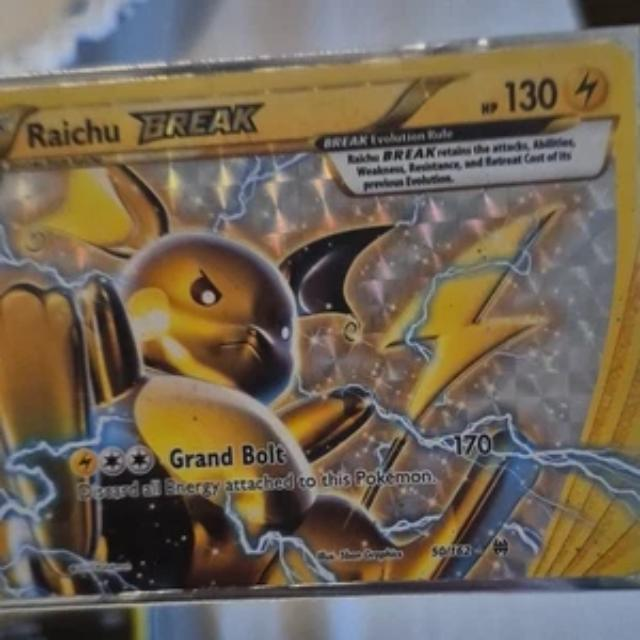Card: (1, 35, 638, 604)
Name: (21, 96, 270, 153)
